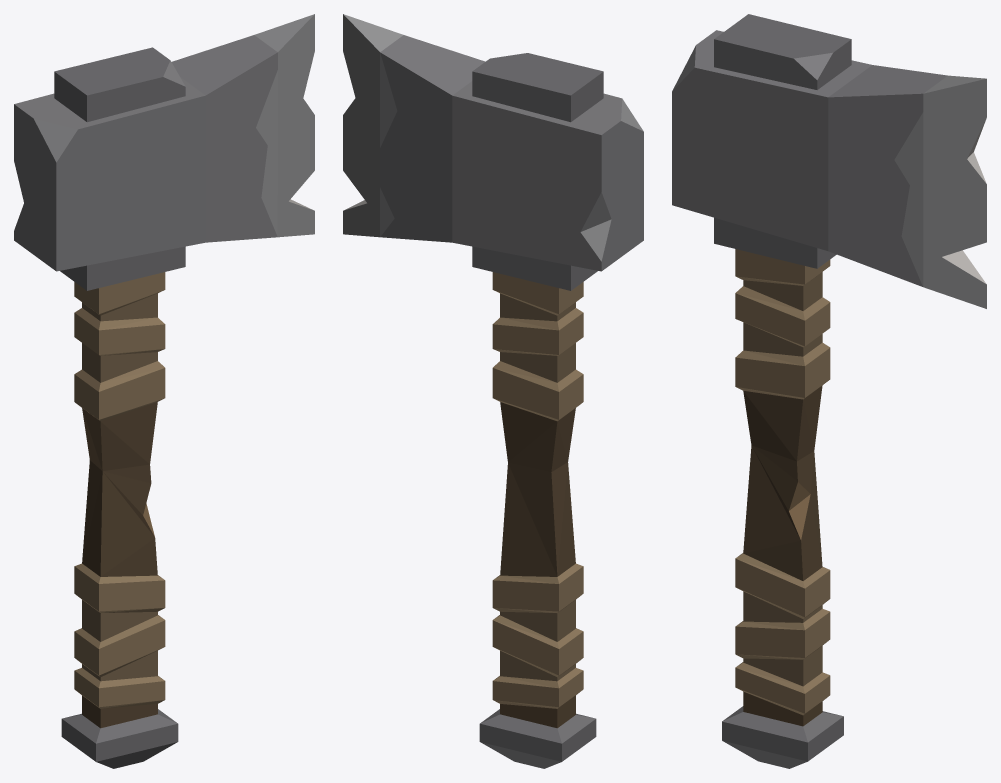
Rendered from SM_Wep_Axe_01.gltf.
3 renders of one model, left to right at view 1: azimuth 30°, elevation 25°; view 2: azimuth 150°, elevation 25°; view 3: azimuth 330°, elevation 25°, orthographic. The views are drawn at different scales.
Visible parts, largest first — view 1: SM_Wep_Axe_01; view 2: SM_Wep_Axe_01; view 3: SM_Wep_Axe_01.
Part boxes in pixels (x1,y1,x2,y2): SM_Wep_Axe_01: (14, 14, 314, 768); SM_Wep_Axe_01: (343, 14, 643, 768); SM_Wep_Axe_01: (672, 14, 986, 768).
Bounding box in the file's own units: 0.2978 × 0.7094 × 0.0782.
1 material, 1 textured.
